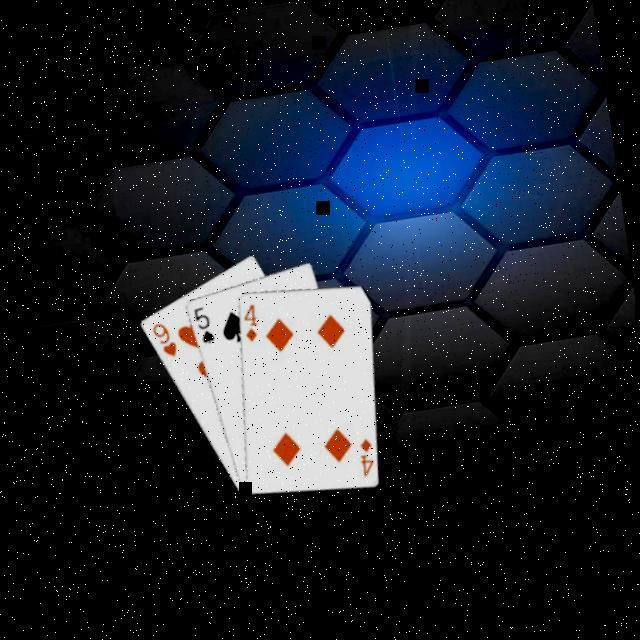4D: (236, 298, 263, 343), (353, 433, 378, 477)
5S: (187, 300, 217, 347)
9H: (147, 315, 180, 361)
